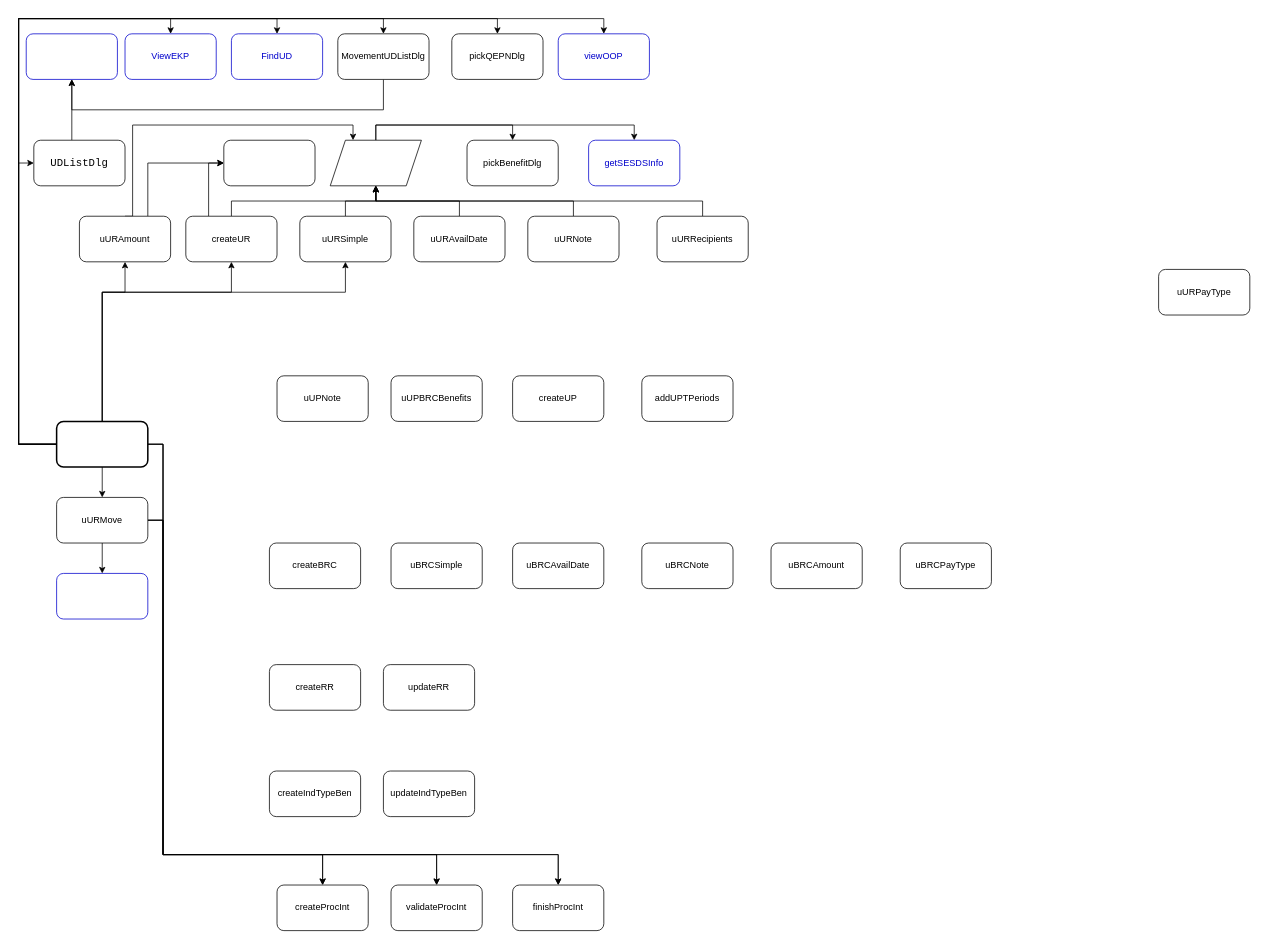
The diagram is 1263 pixels wide and 944 high, and some of its shapes have lost their labels. The box of each missing label's shape, as (x1, y1, x2, y2) in pixels:
detailDialog <urAmounts>: (223, 139, 315, 186)
findAssrDlg: (56, 573, 148, 619)
Liquidate ITL: (55, 420, 148, 467)
URInc.jsp: (329, 139, 421, 186)
ViewITL: (25, 33, 117, 79)
